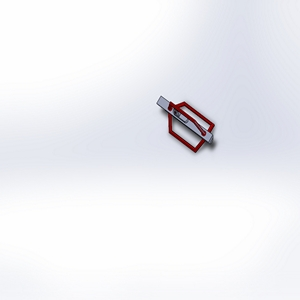submarine: (150, 84, 225, 160)
